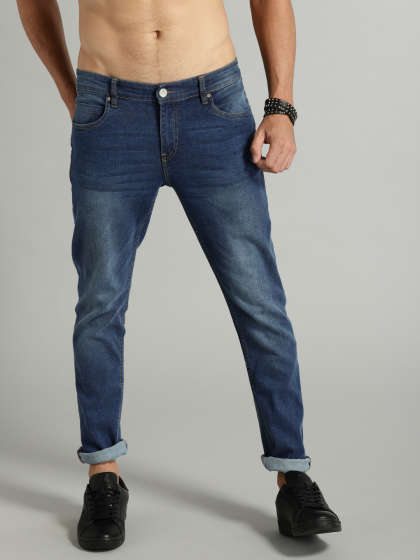jeans: (46, 62, 345, 475)
